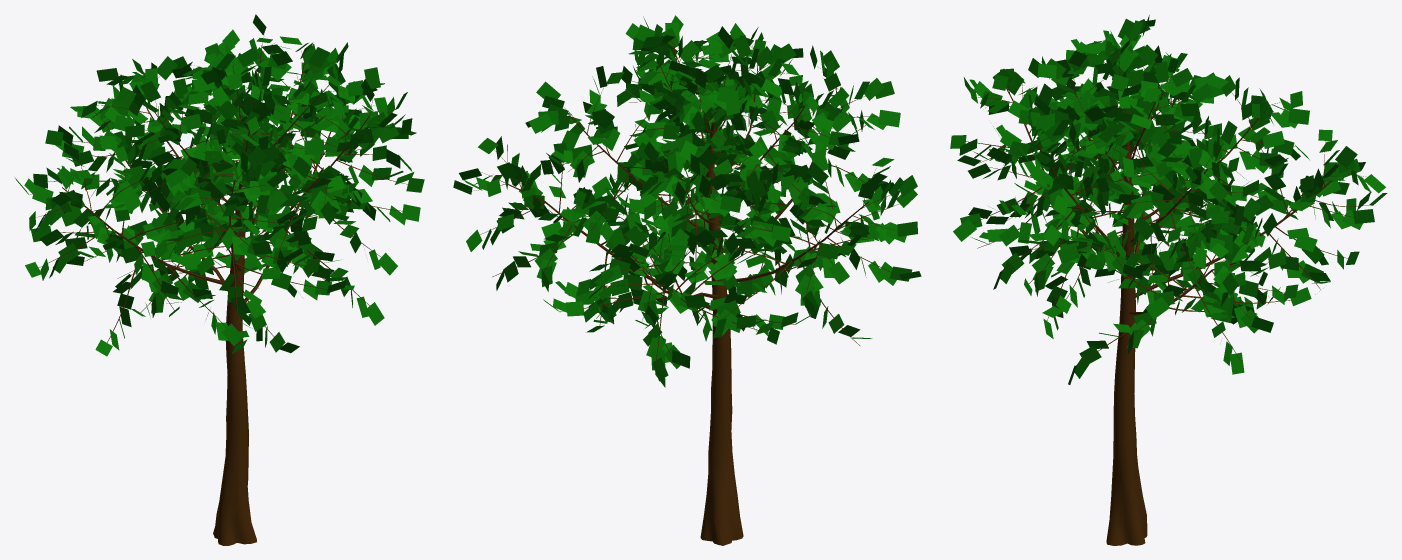
Rendered from Tall Tree.FBX.
3 renders of one model, left to right at view 1: azimuth 30°, elevation 25°; view 2: azimuth 150°, elevation 25°; view 3: azimuth 270°, elevation 25°, orthographic.
Visible parts, largest first — view 1: Foliage001; view 2: Foliage001; view 3: Foliage001.
Part boxes in pixels (bbox=[...]): Foliage001: bbox=[15, 14, 424, 545]; Foliage001: bbox=[453, 15, 921, 545]; Foliage001: bbox=[950, 15, 1387, 545].
Bounding box in the file's own units: 564 × 654 × 516.
